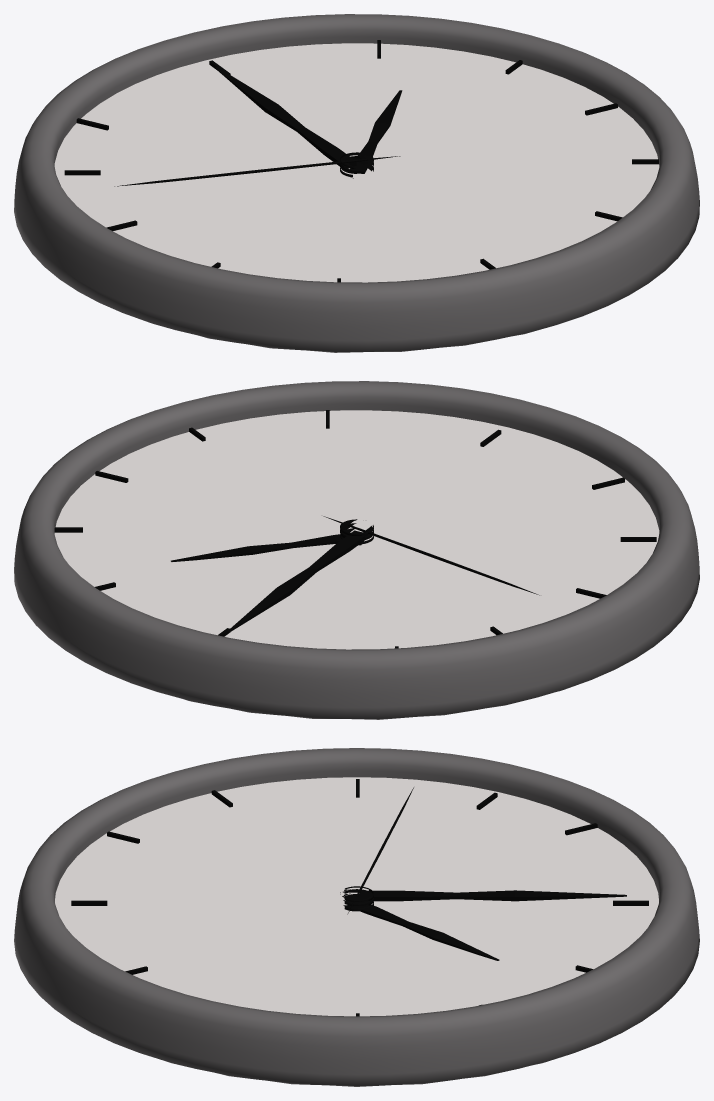
File: clock2 night .fbx
The picture shows the model from 3 angles, top to bottom: view 1: azimuth 30°, elevation 25°; view 2: azimuth 150°, elevation 25°; view 3: azimuth 270°, elevation 25°; orthographic projection.
Parts seen in each view (by area): view 1: clock.013; view 2: clock.013; view 3: clock.013.
Part boxes in pixels (x1,y1,x2,y2): clock.013: (14, 14, 699, 352); clock.013: (14, 381, 699, 719); clock.013: (14, 748, 699, 1086).
Bounding box in the file's own units: 29.78 × 2.98 × 29.78.
